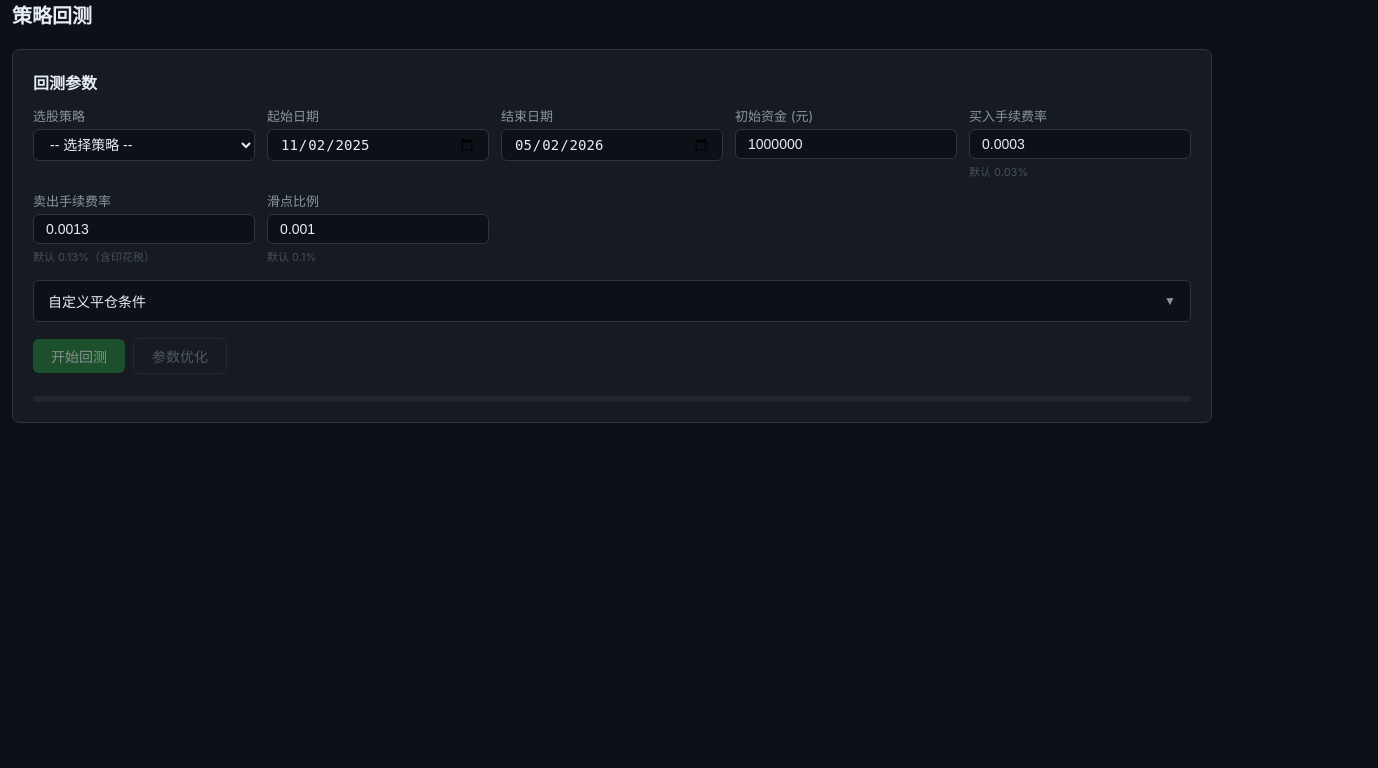
Test case: BacktestView - 指标使用说明卡片 › 切换指标时说明卡片内容更新为新指标的说明
Click the button "自定义平仓条件 ▼" at (97, 302), box [34,281,1190,321]
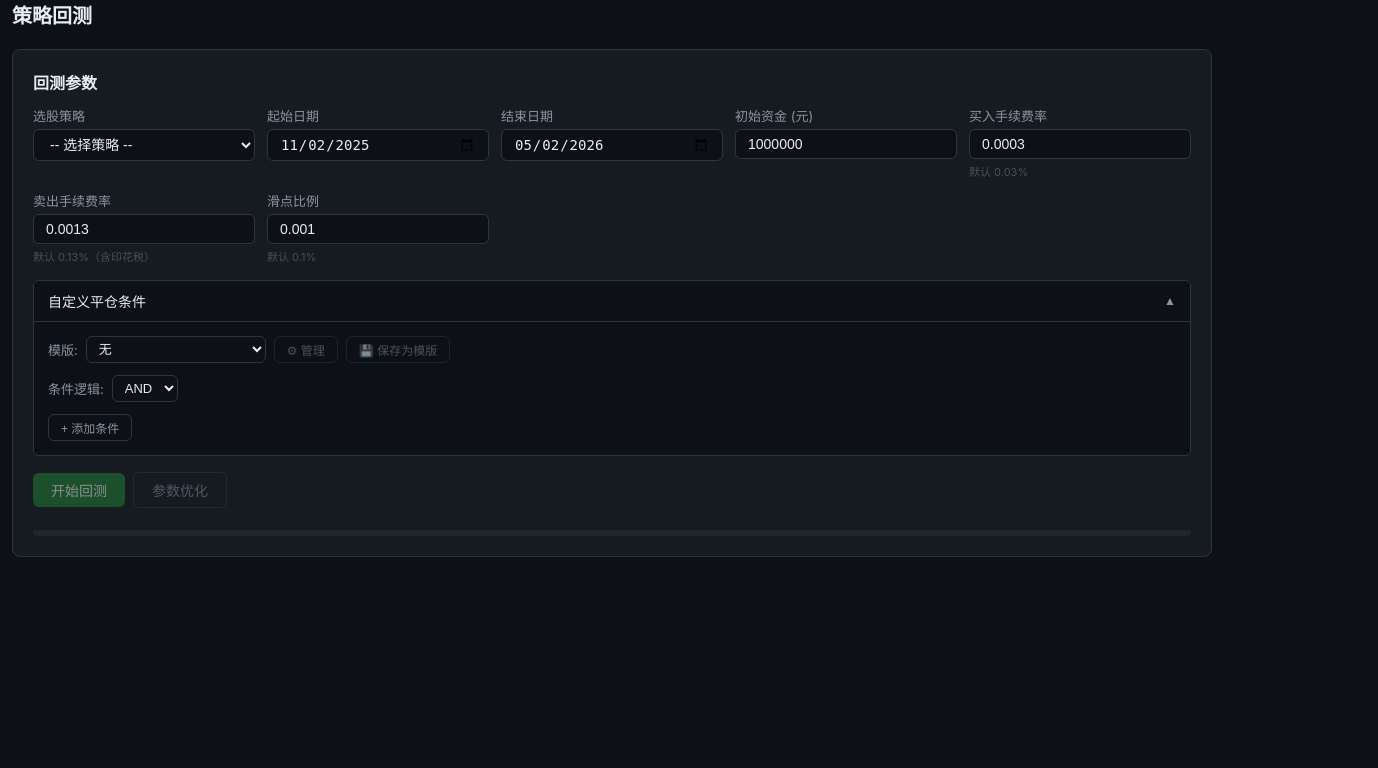
Click the button with aria-label "添加平仓条件" at (90, 428), box [48,414,132,441]
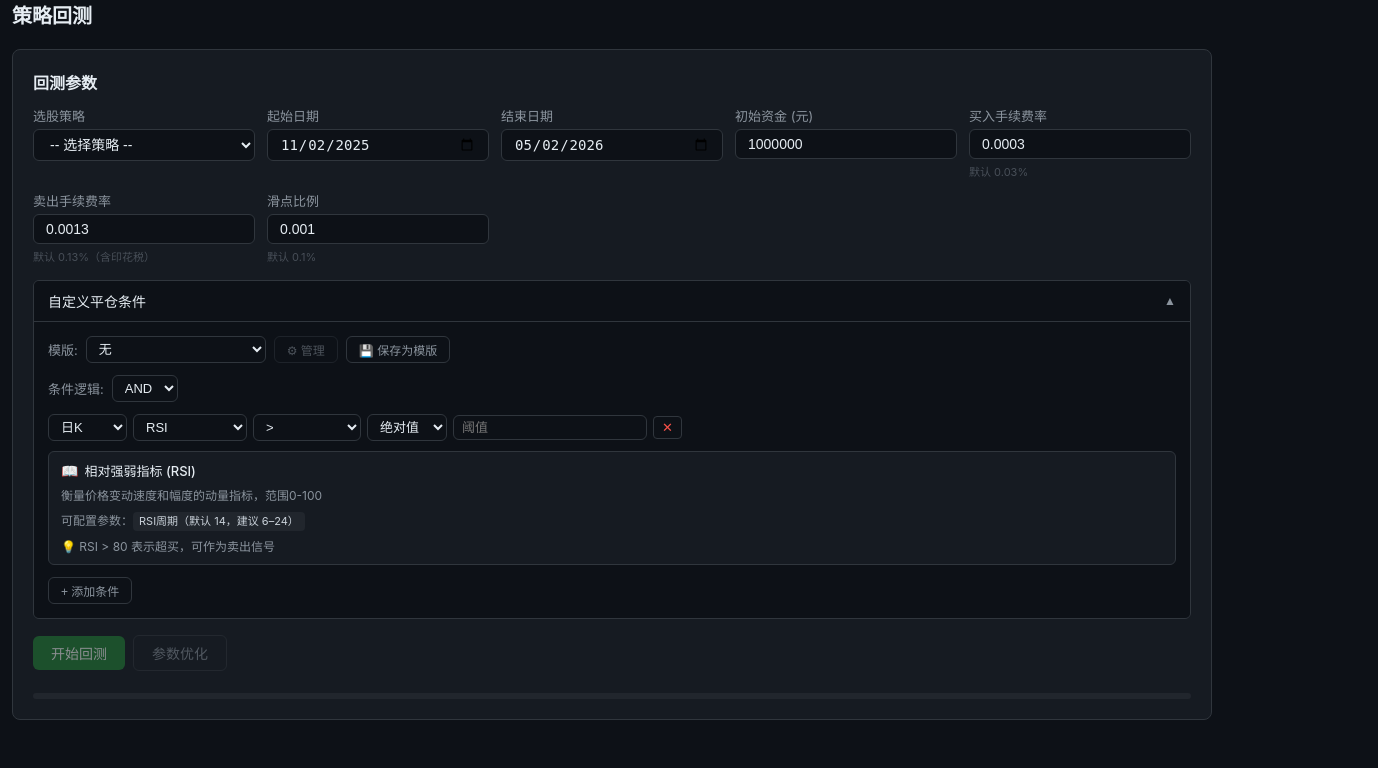
Expected: the text with class "indicator-desc-name" reads "相对强弱指标 (RSI)", [84,463,196,479]
Select "MA" in the dropdown named "条件1指标" at (190, 428), box [133,414,247,441]
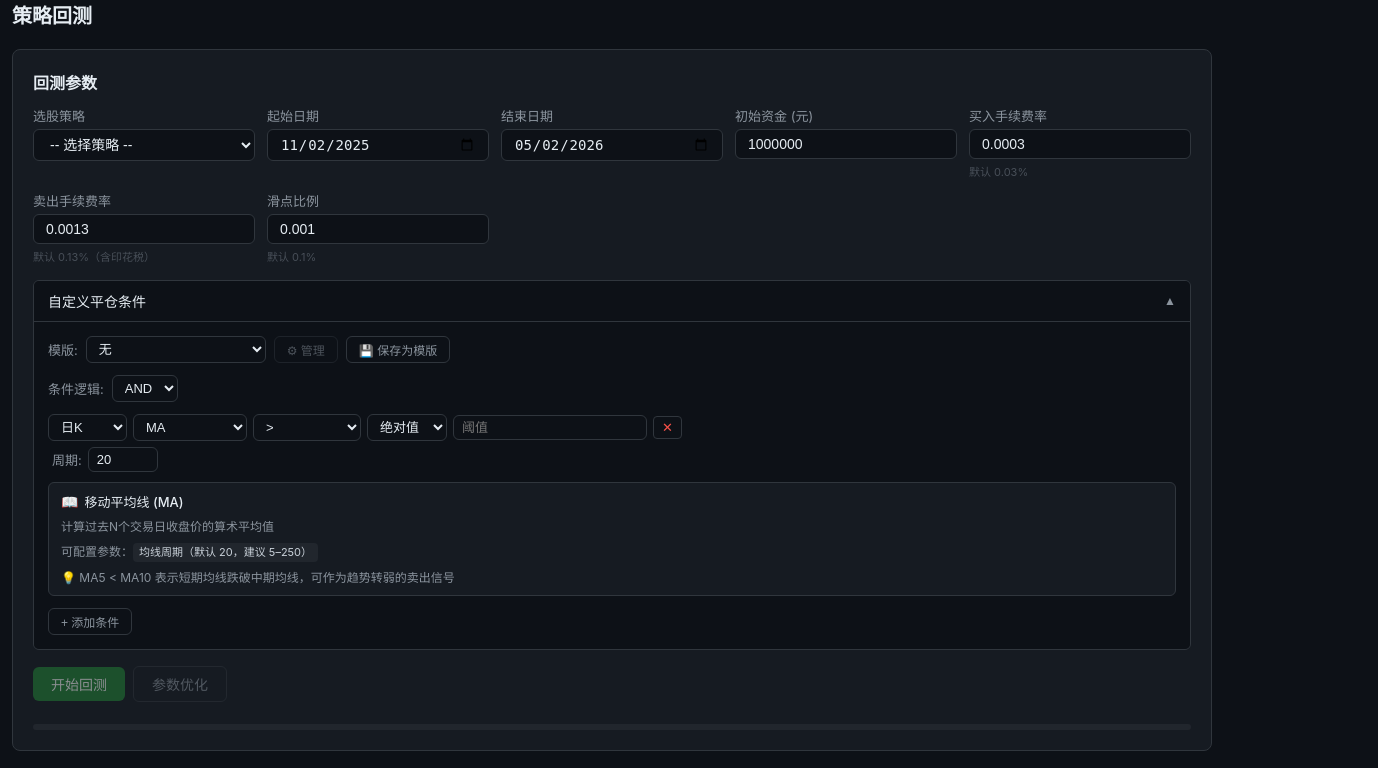
Expected: the text with class "indicator-desc-name" reads "移动平均线 (MA)", [84,494,184,510]
Expected: the text with class "indicator-desc-calc" reads "计算过去N个交易日收盘价的算术平均值", [61,519,274,534]
Expected: the text with class "indicator-desc-usage" shows "MA5 < MA10 表示短期均线跌破中期均线，可作为趋势转弱的卖出信号", [61,570,455,585]
